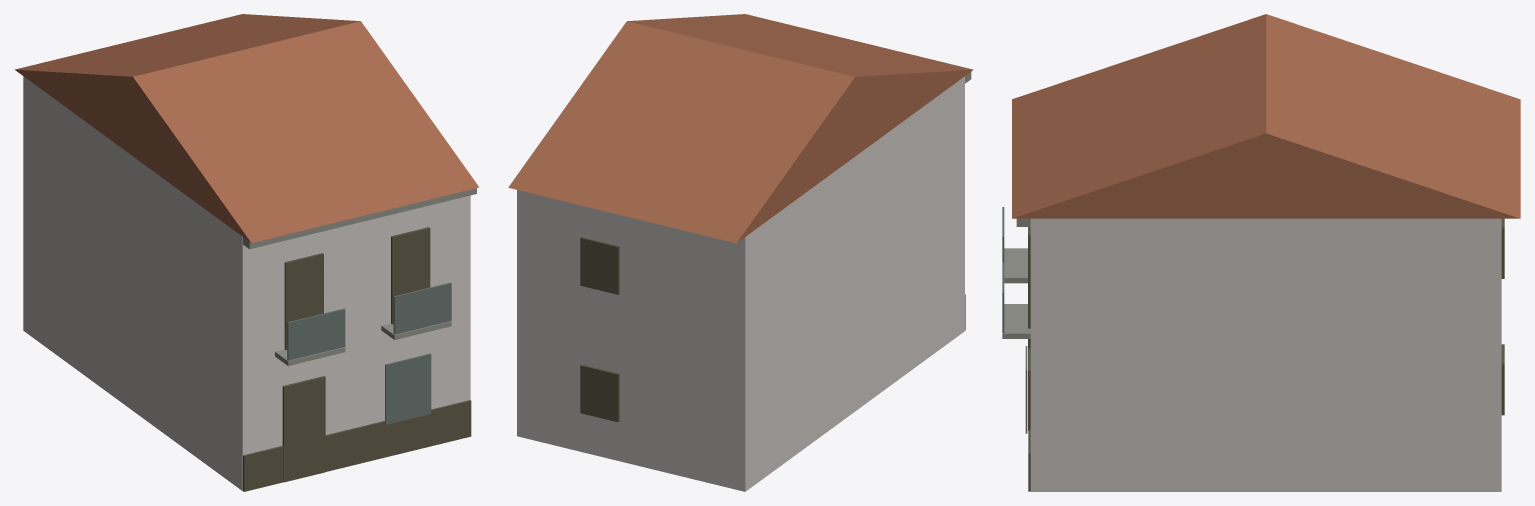
Rendered from SM_casa_pueblo_v0_LOD0.fbx.
3 renders of one model, left to right at view 1: azimuth 30°, elevation 25°; view 2: azimuth 150°, elevation 25°; view 3: azimuth 270°, elevation 25°, orthographic. The views are drawn at different scales.
Parts seen in each view (by area): view 1: SM_casa_pueblo_v0_LOD0; view 2: SM_casa_pueblo_v0_LOD0; view 3: SM_casa_pueblo_v0_LOD0.
Part boxes in pixels (x1=…): SM_casa_pueblo_v0_LOD0: x1=15, y1=14, x2=479, y2=491; SM_casa_pueblo_v0_LOD0: x1=508, y1=14, x2=973, y2=491; SM_casa_pueblo_v0_LOD0: x1=1002, y1=14, x2=1520, y2=491.
Bounding box in the file's own units: 6 × 8.4 × 11.
